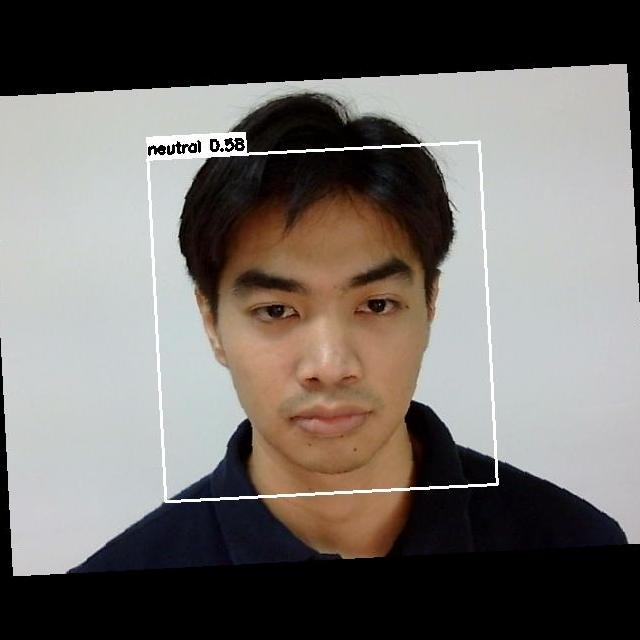Natural: (216, 254, 429, 445)
